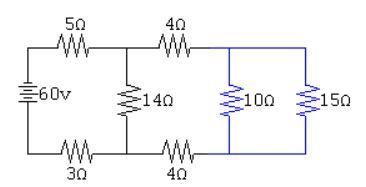resistor: (45, 25, 96, 62), (212, 74, 248, 120), (113, 73, 145, 122), (292, 76, 323, 124), (154, 136, 205, 164), (154, 27, 195, 61), (52, 133, 99, 160)
